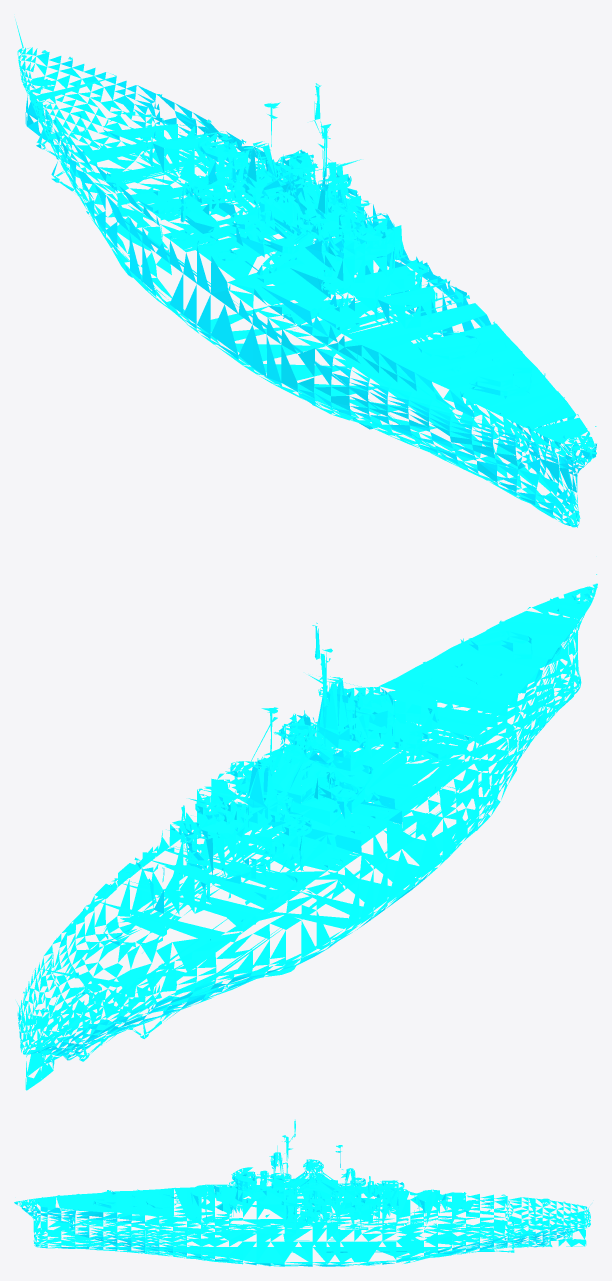
File: Kansas.glb
3 renders of one model, top to bottom at view 1: azimuth 30°, elevation 25°; view 2: azimuth 150°, elevation 25°; view 3: azimuth 270°, elevation 25°, orthographic. The views are drawn at different scales.
Bounding box in the file's own units: 2.46 × 3.39 × 14.04.
